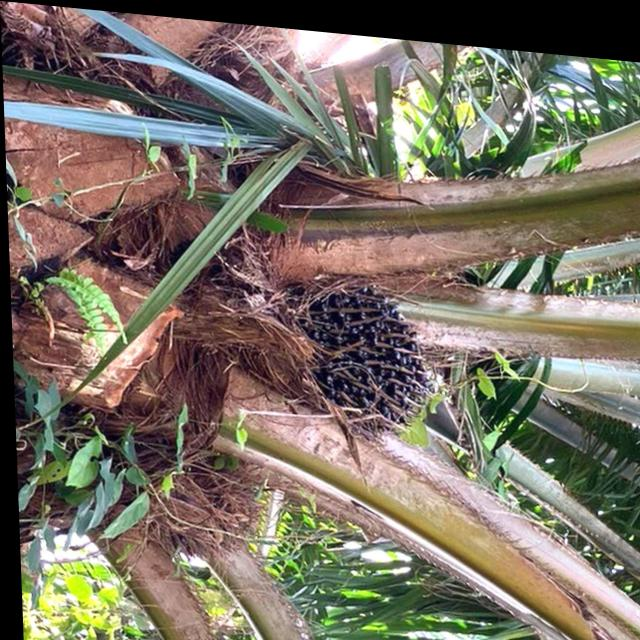unripe: (278, 266, 429, 423)
